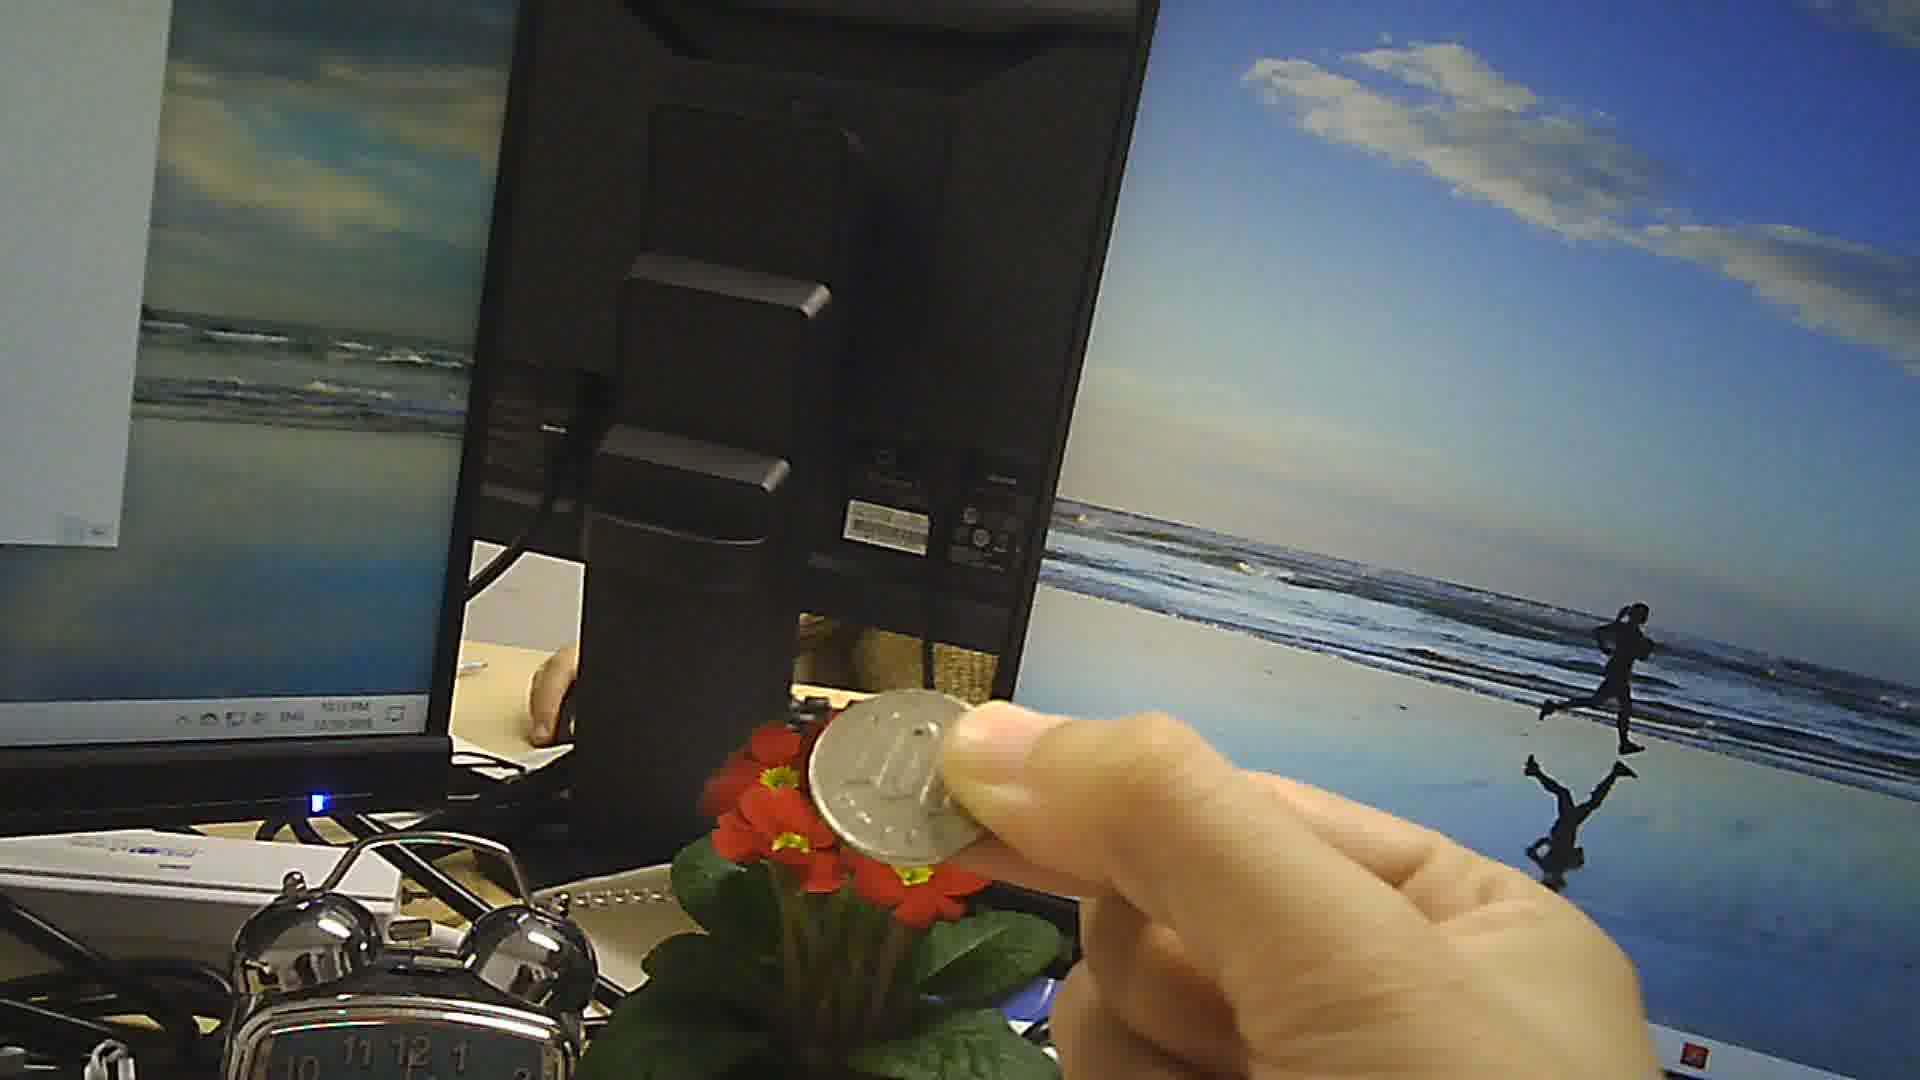100 Yen: (810, 688, 1006, 861)
